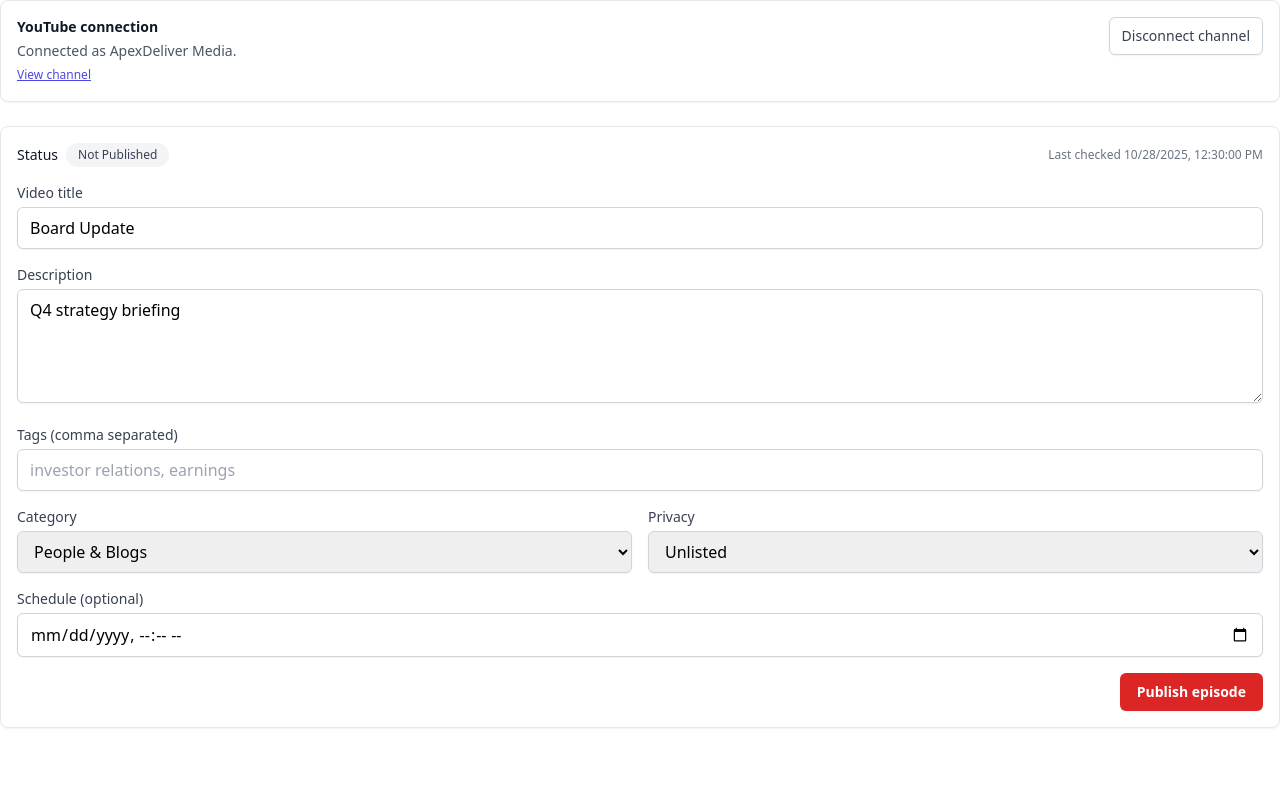
Test case: YouTubePublisher › shows processing indicator while publish mutation is in flight
Click the button "Publish episode": (1191, 692) left=1120, top=673, right=1263, bottom=711
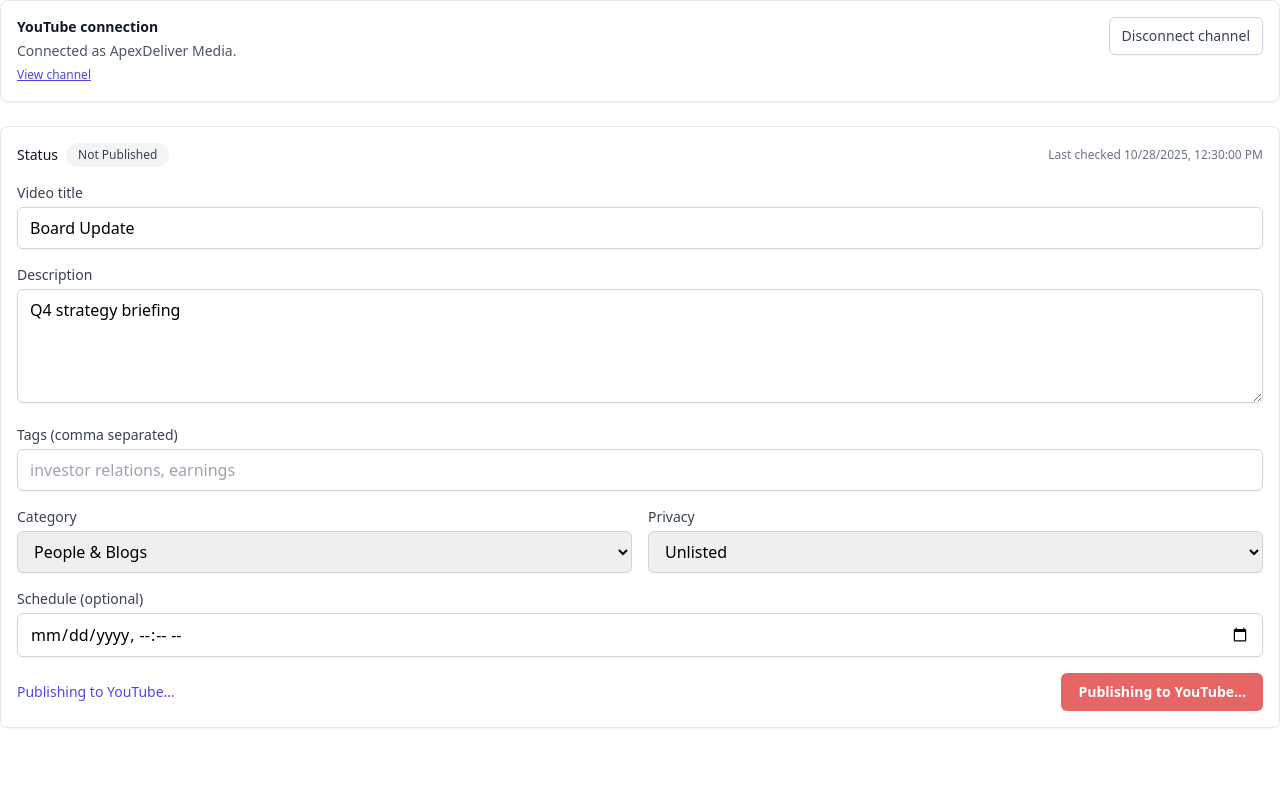
Expected: the button named "publish episode" reads "Publishing to YouTube…", left=1062, top=673, right=1263, bottom=711
